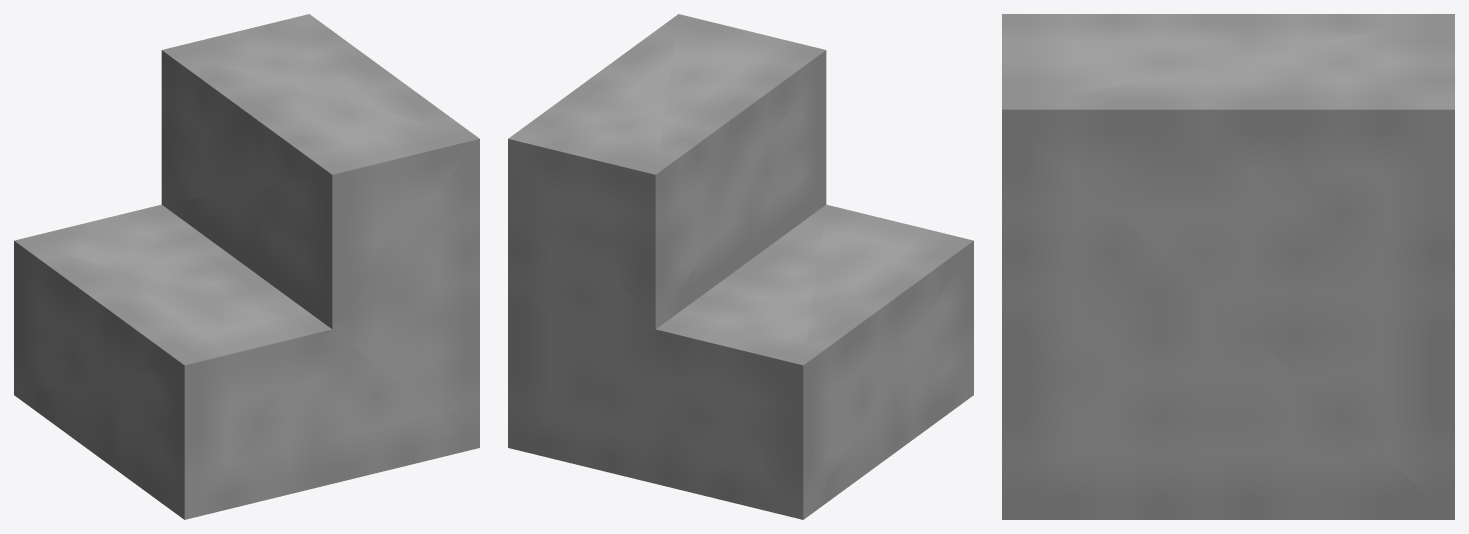
The model's file is stone_stairs.dae.
3 views of the same model, side by side, from view 1: azimuth 30°, elevation 25°; view 2: azimuth 150°, elevation 25°; view 3: azimuth 270°, elevation 25° (orthographic). The views are drawn at different scales.
Parts seen in each view (by area): view 1: stone_stairs; view 2: stone_stairs; view 3: stone_stairs.
Boxes of the visible parts, <box> form: stone_stairs: <box>14,14,479,519</box>; stone_stairs: <box>508,14,973,519</box>; stone_stairs: <box>1002,14,1454,519</box>.
Bounding box in the file's own units: 1 × 1 × 1.
1 material, 1 textured.
